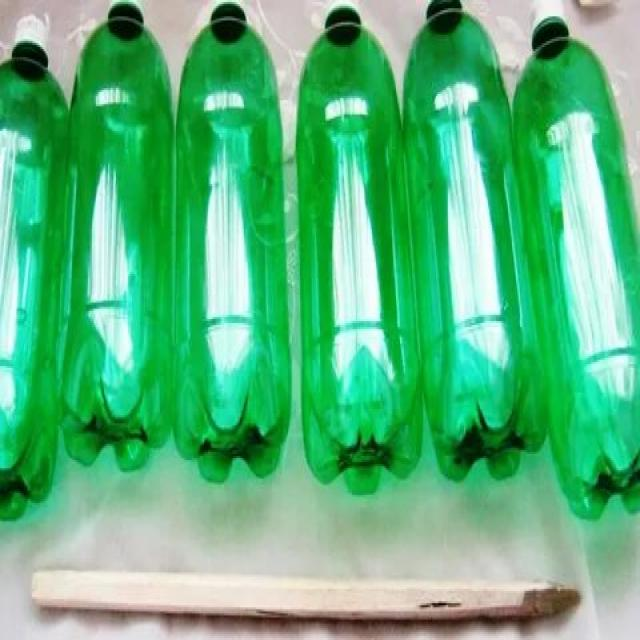green: (408, 12, 548, 483), (516, 37, 640, 526), (298, 26, 422, 498), (174, 17, 290, 483), (65, 12, 178, 472)
